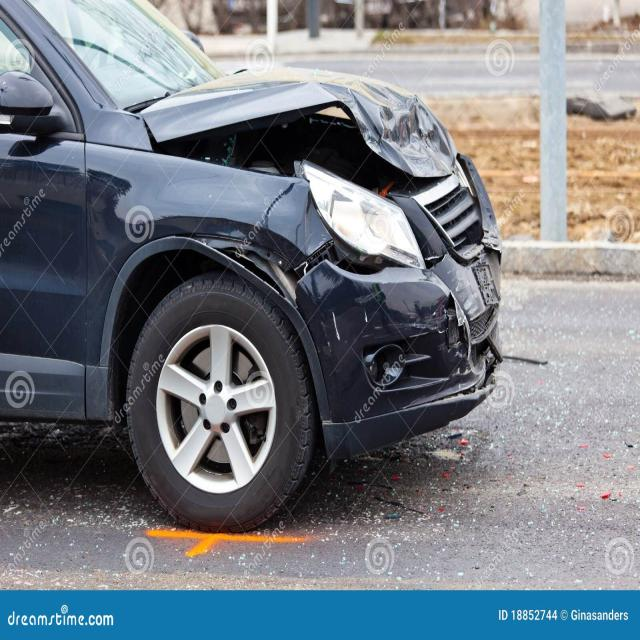crush: (140, 65, 507, 423)
